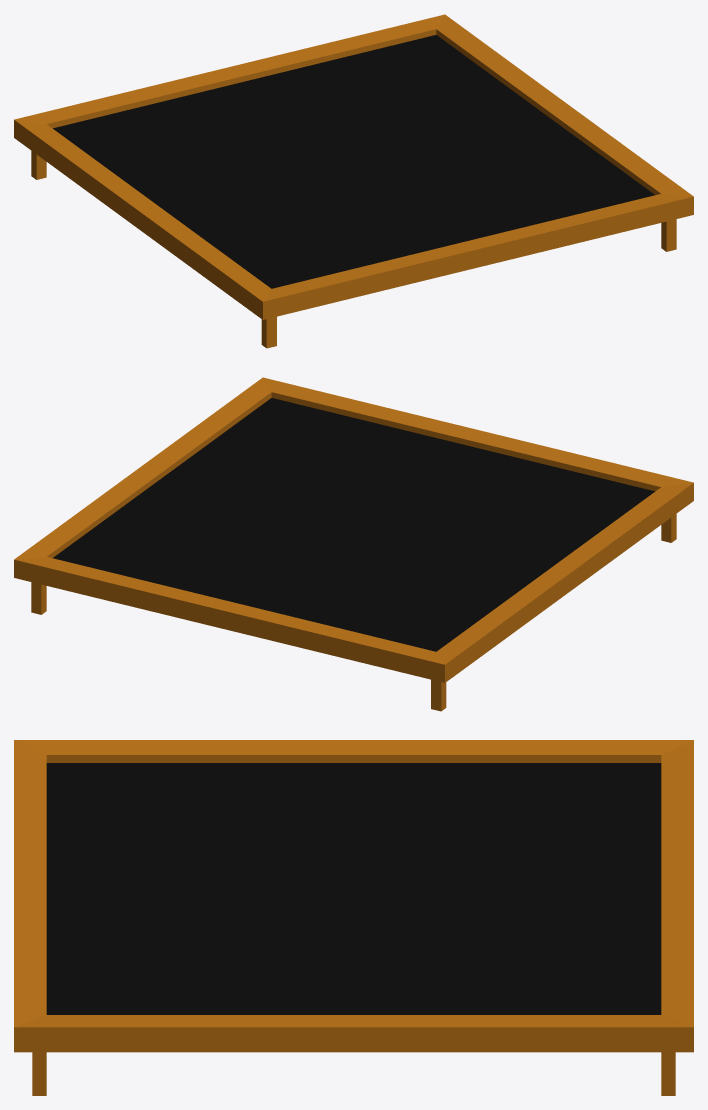
File: Btable01.fbx
The picture shows the model from 3 angles, top to bottom: view 1: azimuth 30°, elevation 25°; view 2: azimuth 150°, elevation 25°; view 3: azimuth 270°, elevation 25°; orthographic projection. The views are drawn at different scales.
Visible parts, largest first — view 1: Dummy092, Box044; view 2: Dummy092, Box044; view 3: Dummy092, Box044.
Boxes of the visible parts, bbox=[...] form: Dummy092: bbox=[53, 35, 654, 288]; Box044: bbox=[14, 14, 693, 348]; Dummy092: bbox=[53, 398, 654, 651]; Box044: bbox=[14, 377, 693, 711]; Dummy092: bbox=[46, 763, 661, 1014]; Box044: bbox=[14, 740, 693, 1095].
Bounding box in the file's own units: 131 × 16.01 × 131.
